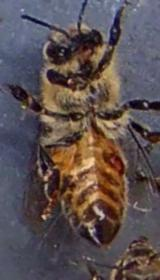varroa_mite: (100, 141, 130, 181)
